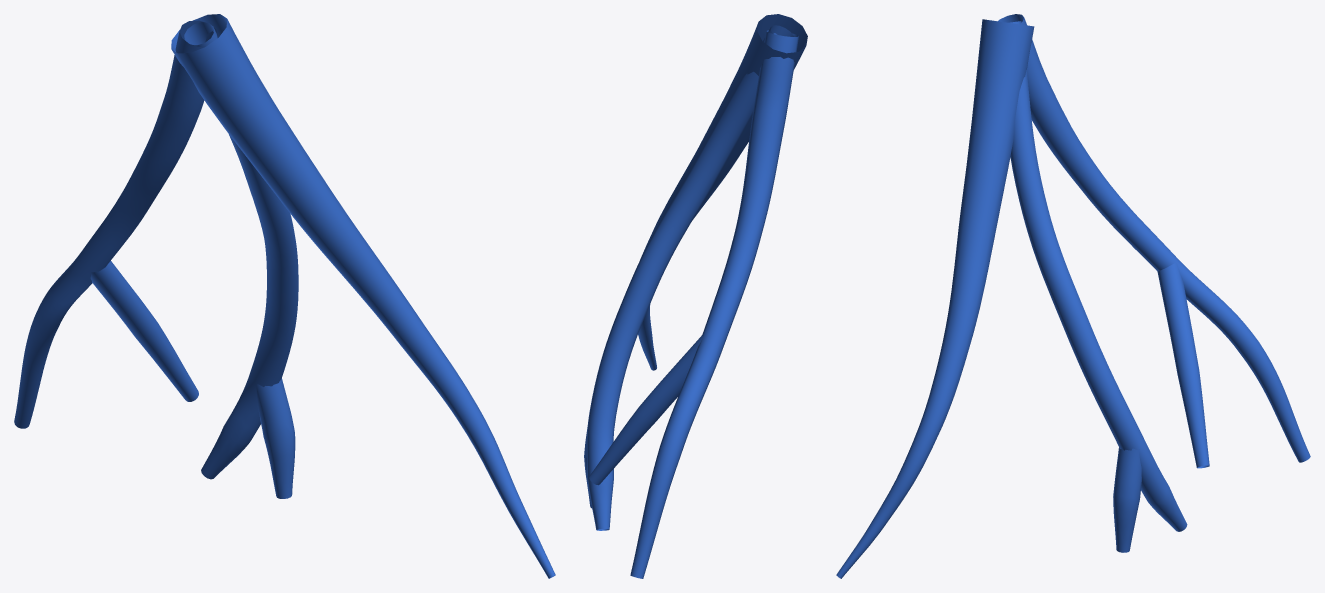
The model's file is circulatorio-anterior-basal-segmental-artery-of-left-lung.glb.
3 views of the same model, side by side, from view 1: azimuth 30°, elevation 25°; view 2: azimuth 150°, elevation 25°; view 3: azimuth 270°, elevation 25° (orthographic). The views are drawn at different scales.
Parts seen in each view (by area): view 1: Anterior basal segmental artery of left lung; view 2: Anterior basal segmental artery of left lung; view 3: Anterior basal segmental artery of left lung.
Part boxes in pixels (box(x1,y1,x2,y2)): Anterior basal segmental artery of left lung: box(14, 14, 555, 578); Anterior basal segmental artery of left lung: box(584, 14, 807, 578); Anterior basal segmental artery of left lung: box(836, 14, 1310, 578).
Size of the model in its own units: 0.0407 by 0.0778 by 0.0704.
